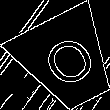O_SE: (34, 29, 100, 94)
